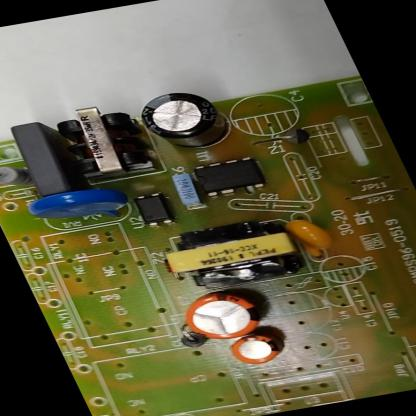Cap1: (177, 291, 266, 344)
Cap2: (228, 334, 280, 367)
Cap3: (132, 85, 231, 154)
MOSFET: (192, 156, 268, 197)
Mov: (22, 182, 128, 228)
Resistor: (0, 164, 33, 191)
Transformer: (161, 220, 304, 290), (52, 102, 148, 176)
